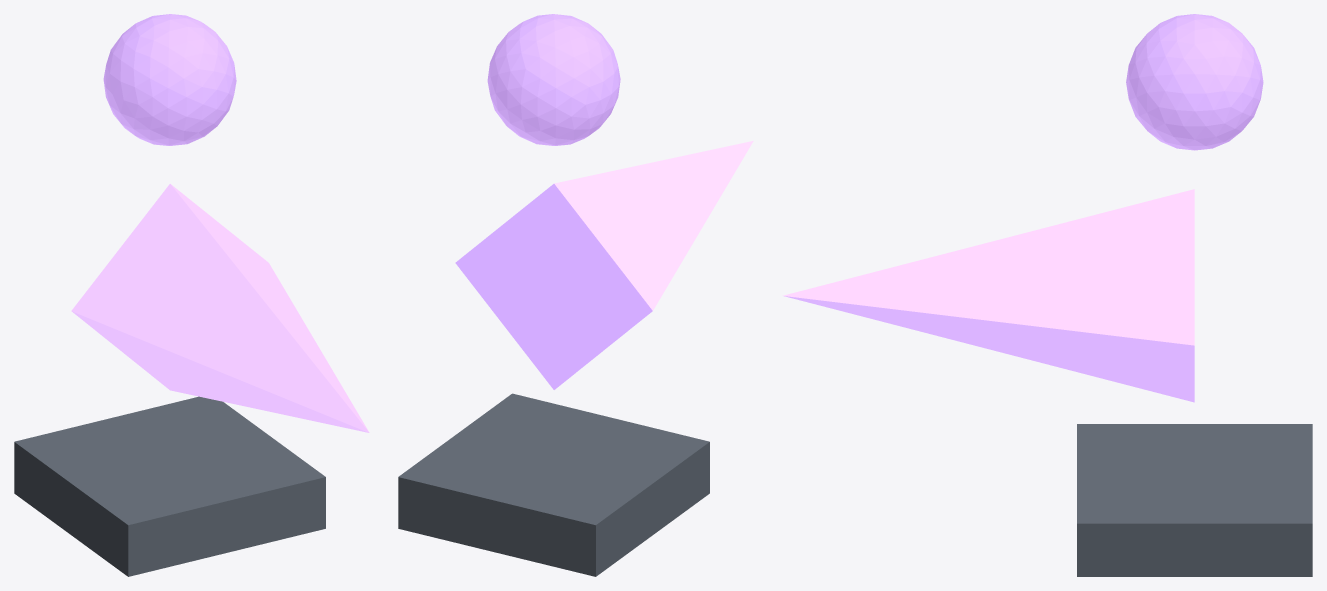
File: obelisco.glb
The picture shows the model from 3 angles, left to right: view 1: azimuth 30°, elevation 25°; view 2: azimuth 150°, elevation 25°; view 3: azimuth 270°, elevation 25°; orthographic projection. The views are drawn at different scales.
Visible parts, largest first — view 1: base, obelisco, esfera; view 2: base, obelisco, esfera; view 3: obelisco, base, esfera.
Part boxes in pixels (bbox=[...]): base: bbox=[14, 396, 325, 576]; obelisco: bbox=[71, 184, 369, 432]; esfera: bbox=[103, 14, 236, 145]; base: bbox=[398, 393, 709, 576]; obelisco: bbox=[455, 141, 753, 389]; esfera: bbox=[487, 14, 620, 145]; obelisco: bbox=[782, 189, 1194, 402]; base: bbox=[1077, 424, 1312, 576]; esfera: bbox=[1126, 14, 1263, 150].
Size of the model in its own units: 0.24 by 0.57 by 0.54.
